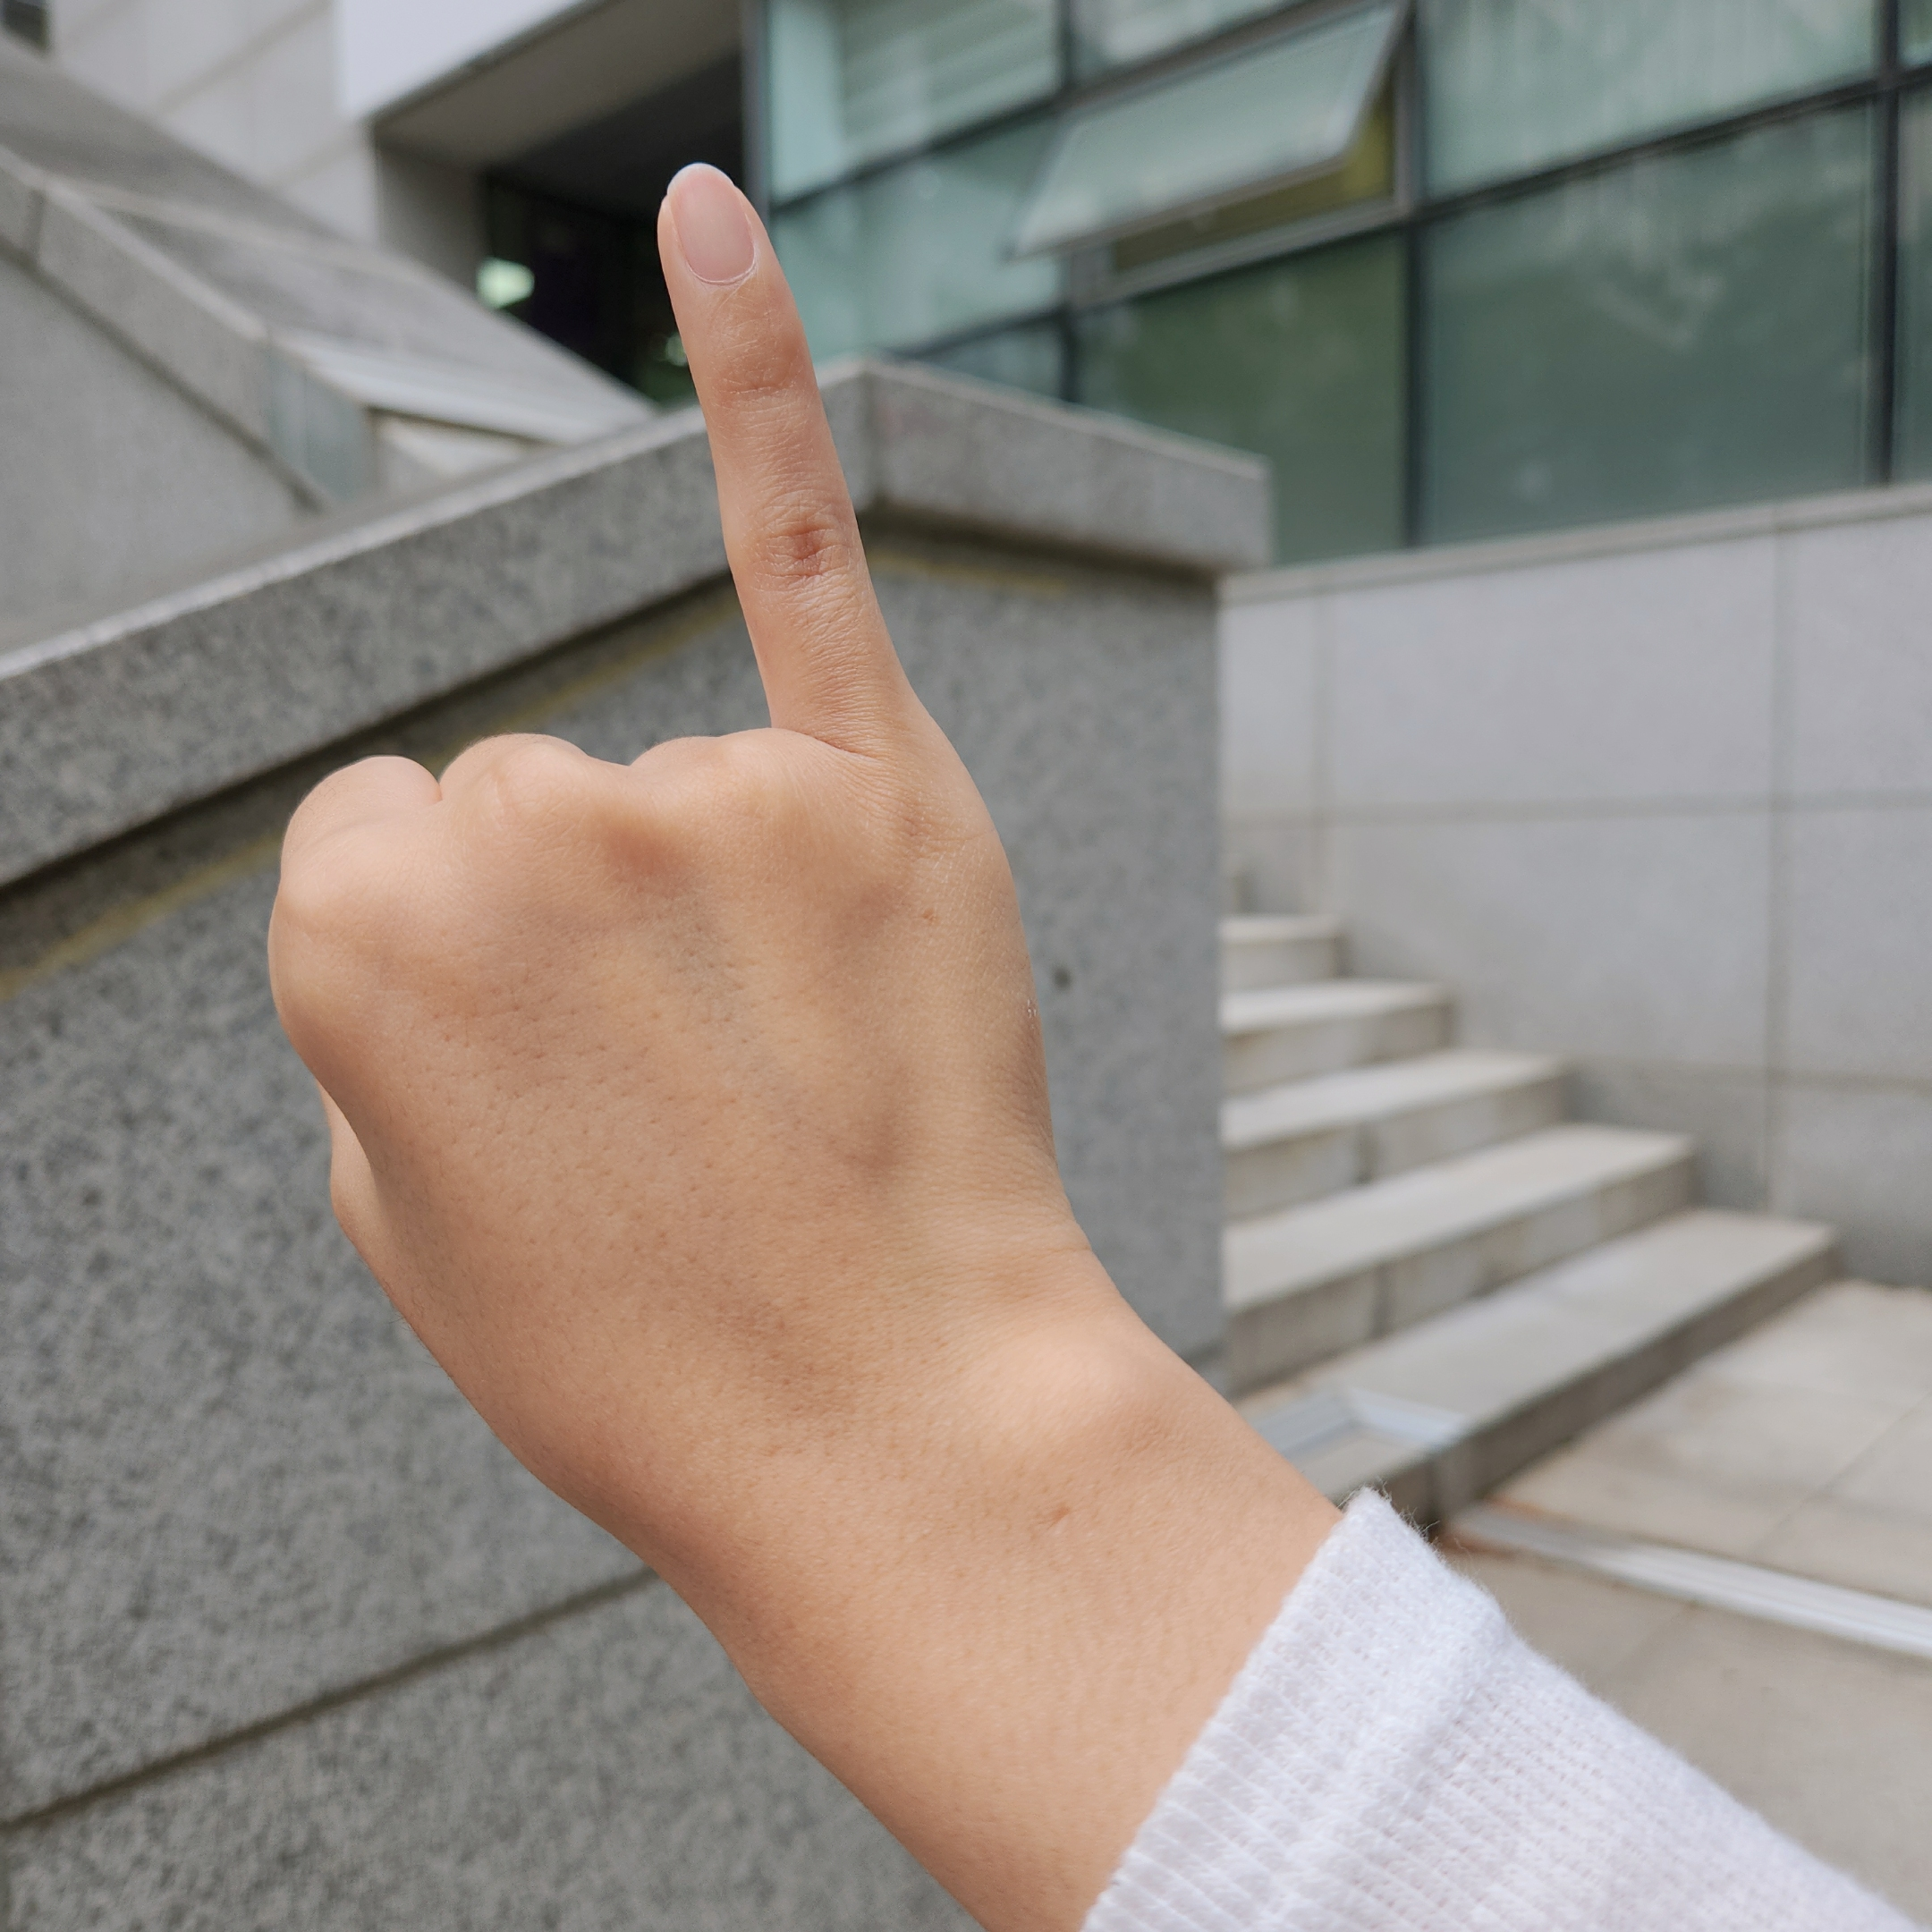fine: (272, 159, 1077, 1551)
